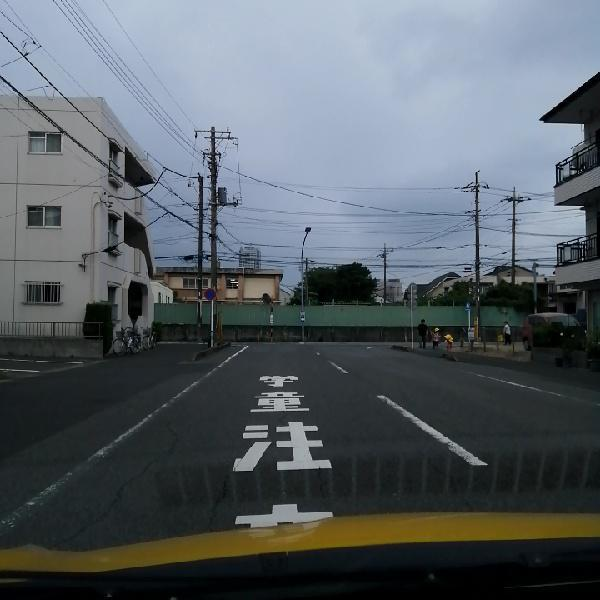D00: (48, 416, 200, 538), (420, 458, 471, 505), (205, 480, 231, 530), (309, 457, 330, 497)
D40: (100, 140, 147, 191)
D44: (4, 358, 226, 527), (375, 391, 488, 469)
